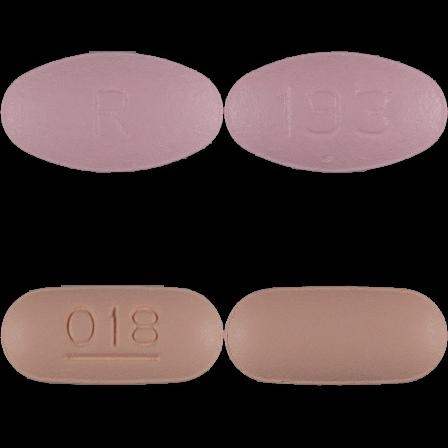49999-771: (0, 0, 224, 224)
